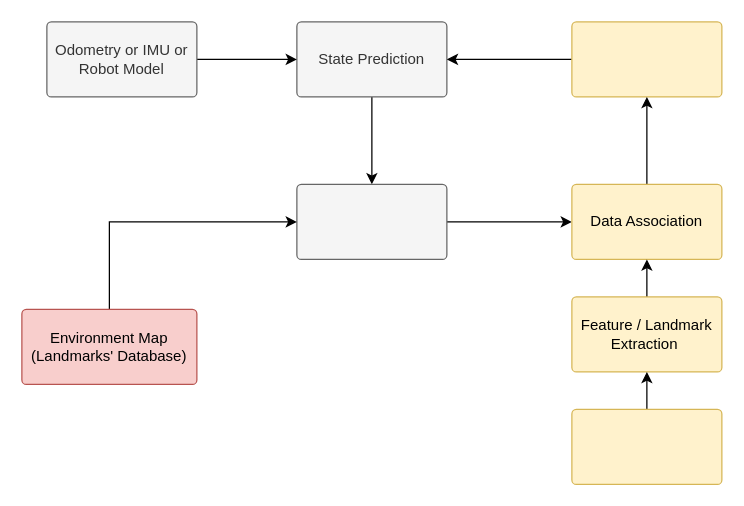
Image size: 744x506. Some labels were removed from this diagram. The shapes that lost their labels are listed below. From the top down, each one's centre as x and y in pixels, then its label:
At point (646, 59): "Update".
At point (371, 221): "Measurement Prediction".
At point (646, 446): "Sensor Modules (LiDAR / Ultrasonic etc.)".
